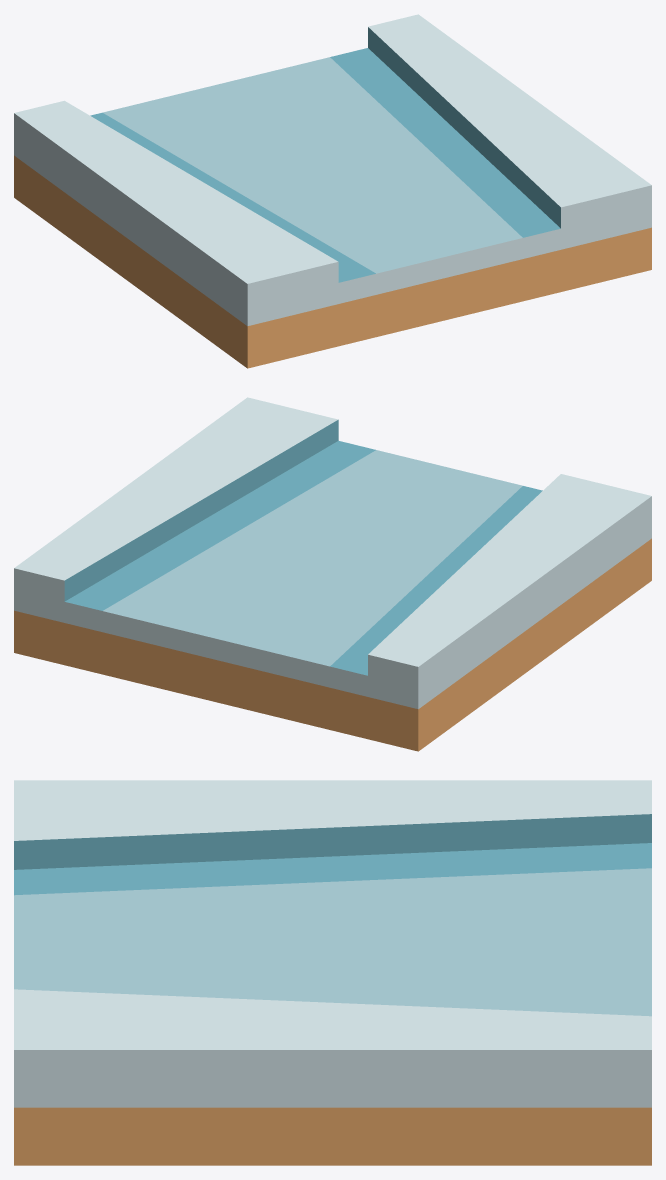
The model's file is snow_tile_transition.dae.
3 renders of one model, top to bottom at view 1: azimuth 30°, elevation 25°; view 2: azimuth 150°, elevation 25°; view 3: azimuth 270°, elevation 25°, orthographic. The views are drawn at different scales.
Visible parts, largest first — view 1: snow_tile_transition; view 2: snow_tile_transition; view 3: snow_tile_transition.
Boxes of the visible parts, x1,y1,x2,y2 form: snow_tile_transition: (14, 14, 651, 368); snow_tile_transition: (14, 397, 651, 751); snow_tile_transition: (14, 780, 651, 1165).
Size of the model in its own units: 1 by 0.2 by 1.
